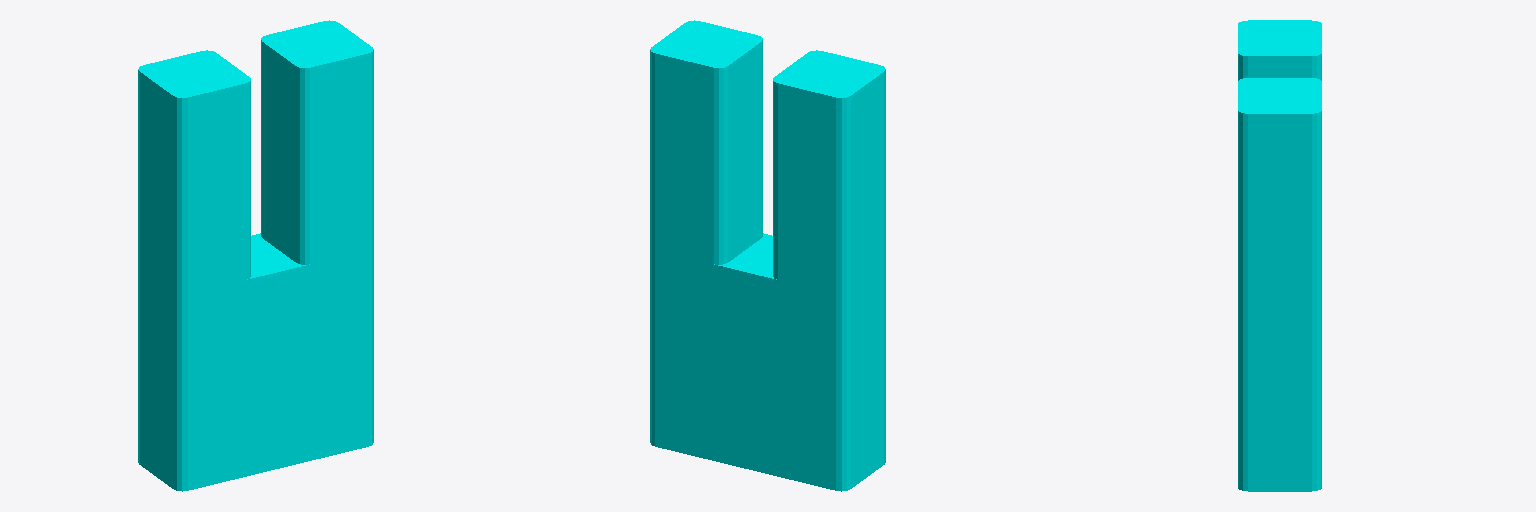
The robot description file, URDF, robot "Medium_Short_DoubleSquare_Purple":
<?xml version="1.0"?>
<robot name="Medium_Short_DoubleSquare_Purple">
    <link name="Medium_Short_DoubleSquare_Purple">
        <visual>
            <geometry>
                <mesh filename="../mesh/factory_insertion/Medium_Short_DoubleSquare_Purple.obj" scale="0.001 0.001 0.001"/>
            </geometry>
            <material name="Purple">
              <color rgba="0 1.0 1.0 1.0"/>
            </material>
        </visual>
        <collision>
            <geometry>
                <mesh filename="../mesh/factory_insertion/Medium_Short_DoubleSquare_Purple.obj" scale="0.001 0.001 0.001"/>
            </geometry>
            <sdf resolution="512"/>
        </collision>
    </link>
</robot>

--- Facts derived from the render (not from the file) ---
Views: 3 orthographic renders of the robot side by side, from view 1: azimuth 30°, elevation 25°; view 2: azimuth 150°, elevation 25°; view 3: azimuth 270°, elevation 25°.
Model Medium_Short_DoubleSquare_Purple with 1 links and 0 joints (none), rooted at Medium_Short_DoubleSquare_Purple, posed every joint at zero.
Visible links, largest first — view 1: Medium_Short_DoubleSquare_Purple; view 2: Medium_Short_DoubleSquare_Purple; view 3: Medium_Short_DoubleSquare_Purple.
Boxes of the visible links, <box> form: Medium_Short_DoubleSquare_Purple: <box>138,20,373,491</box>; Medium_Short_DoubleSquare_Purple: <box>650,20,885,491</box>; Medium_Short_DoubleSquare_Purple: <box>1238,20,1321,491</box>.
Size in the robot's own frame: 0.053 by 0.0204 by 0.1 metres.
Meshes: 1 distinct files referenced, 1 mesh visuals loaded (1 OBJ).
